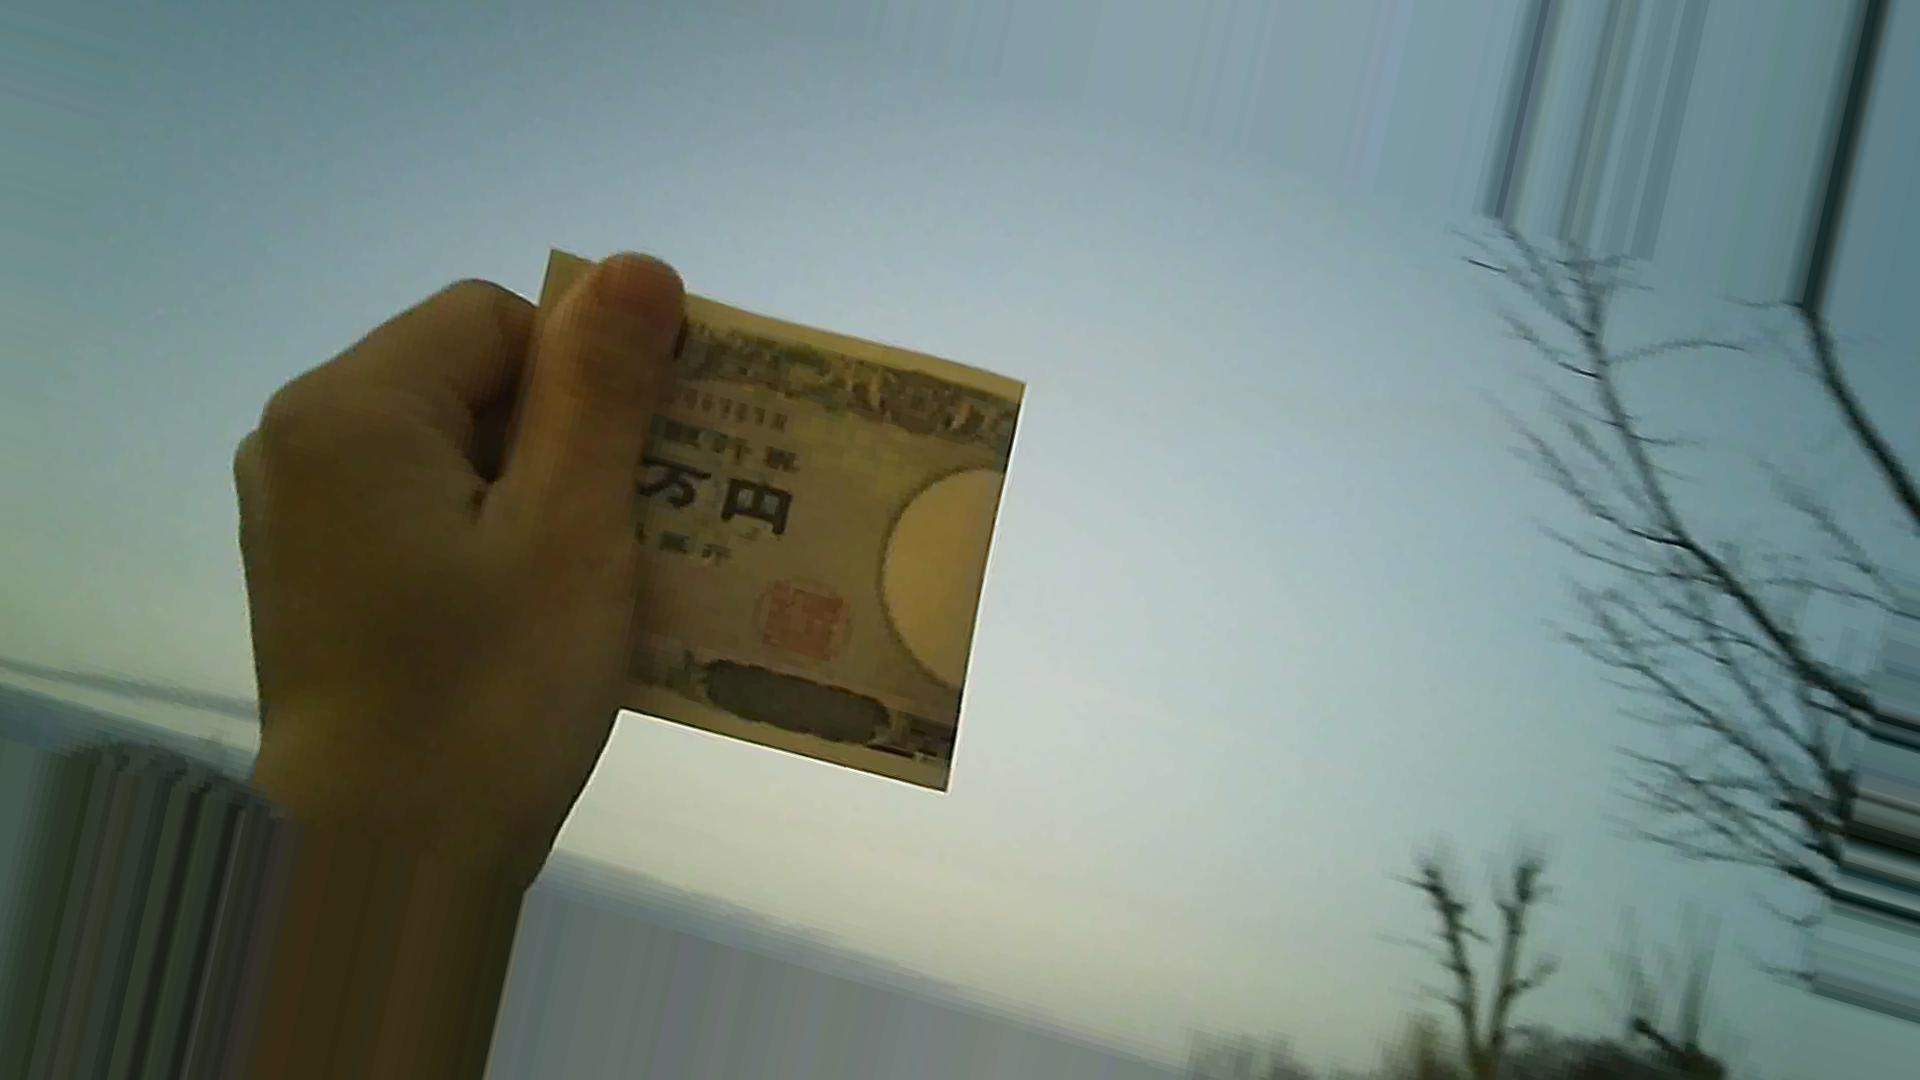10,000 Yen: (473, 243, 1069, 827)
